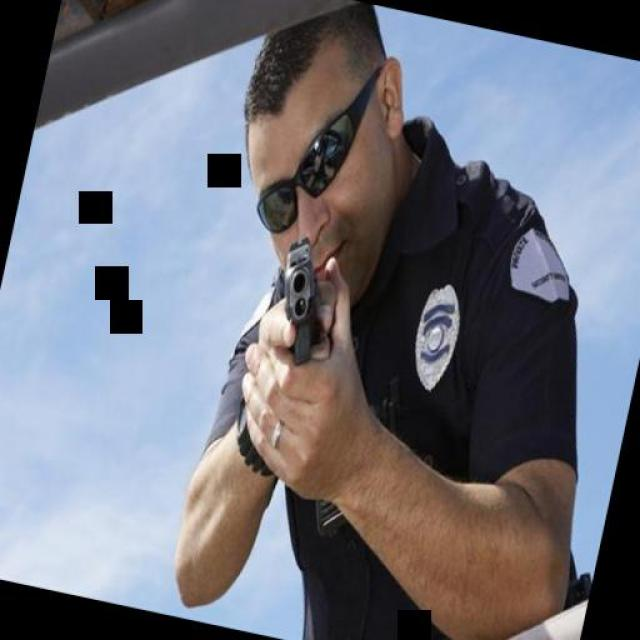gun: (260, 226, 340, 368)
